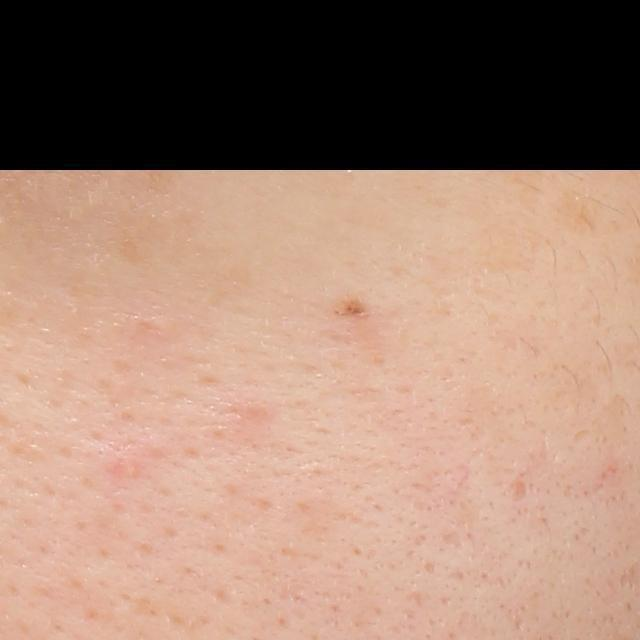atrophic_scar: (503, 479, 530, 504)
nevus: (330, 295, 371, 322)
